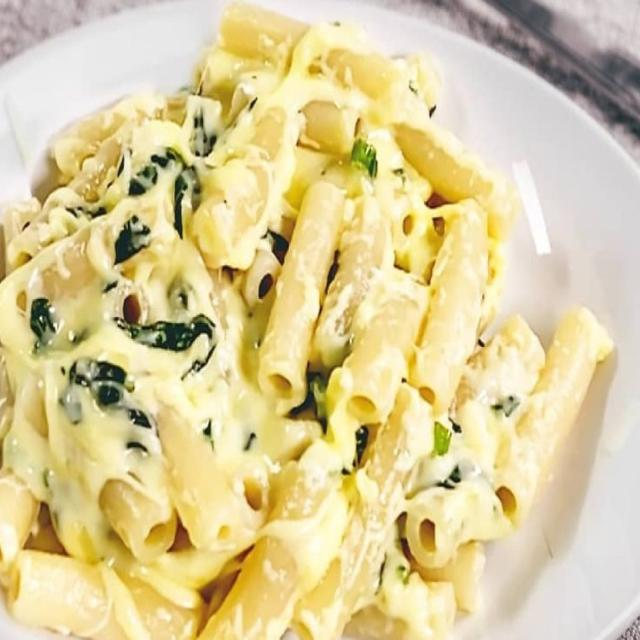pasta: (3, 26, 607, 638)
